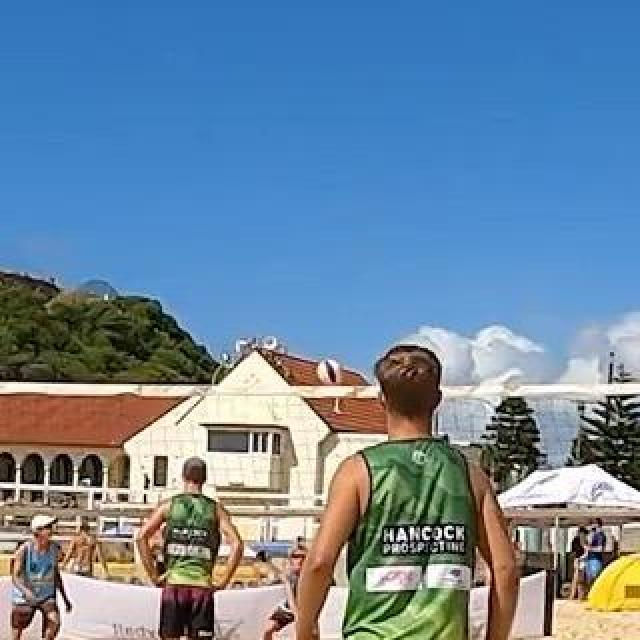volleyball: (317, 358, 341, 382)
